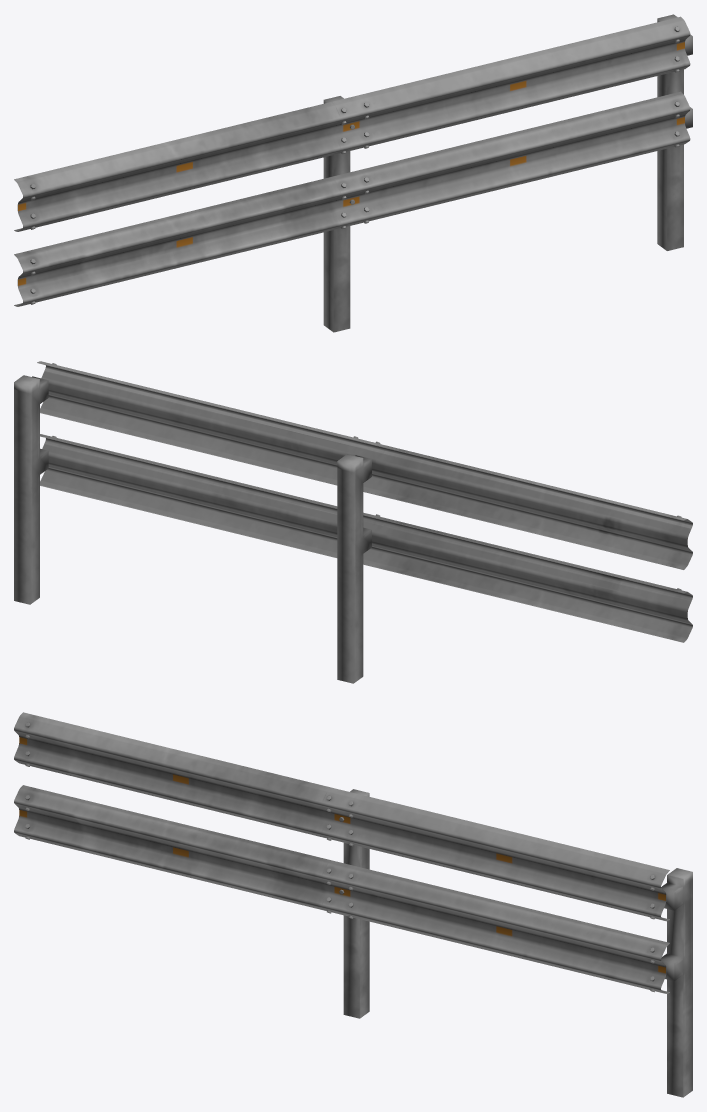
File: railing.fbx
3 views of the same model, one above another, from view 1: azimuth 30°, elevation 25°; view 2: azimuth 150°, elevation 25°; view 3: azimuth 330°, elevation 25° (orthographic). The views are drawn at different scales.
Parts seen in each view (by area): view 1: RailingDouble; view 2: RailingDouble; view 3: RailingDouble.
Boxes of the visible parts, x1,y1,x2,y2 form: RailingDouble: (14, 14, 692, 332); RailingDouble: (14, 361, 692, 683); RailingDouble: (14, 712, 692, 1097).
Bounding box in the file's own units: 405 × 136 × 25.79.
